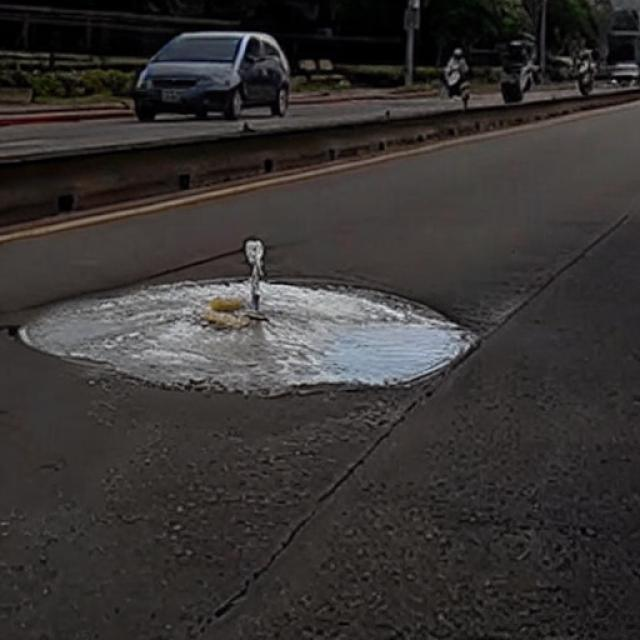puddle: (18, 280, 472, 393)
